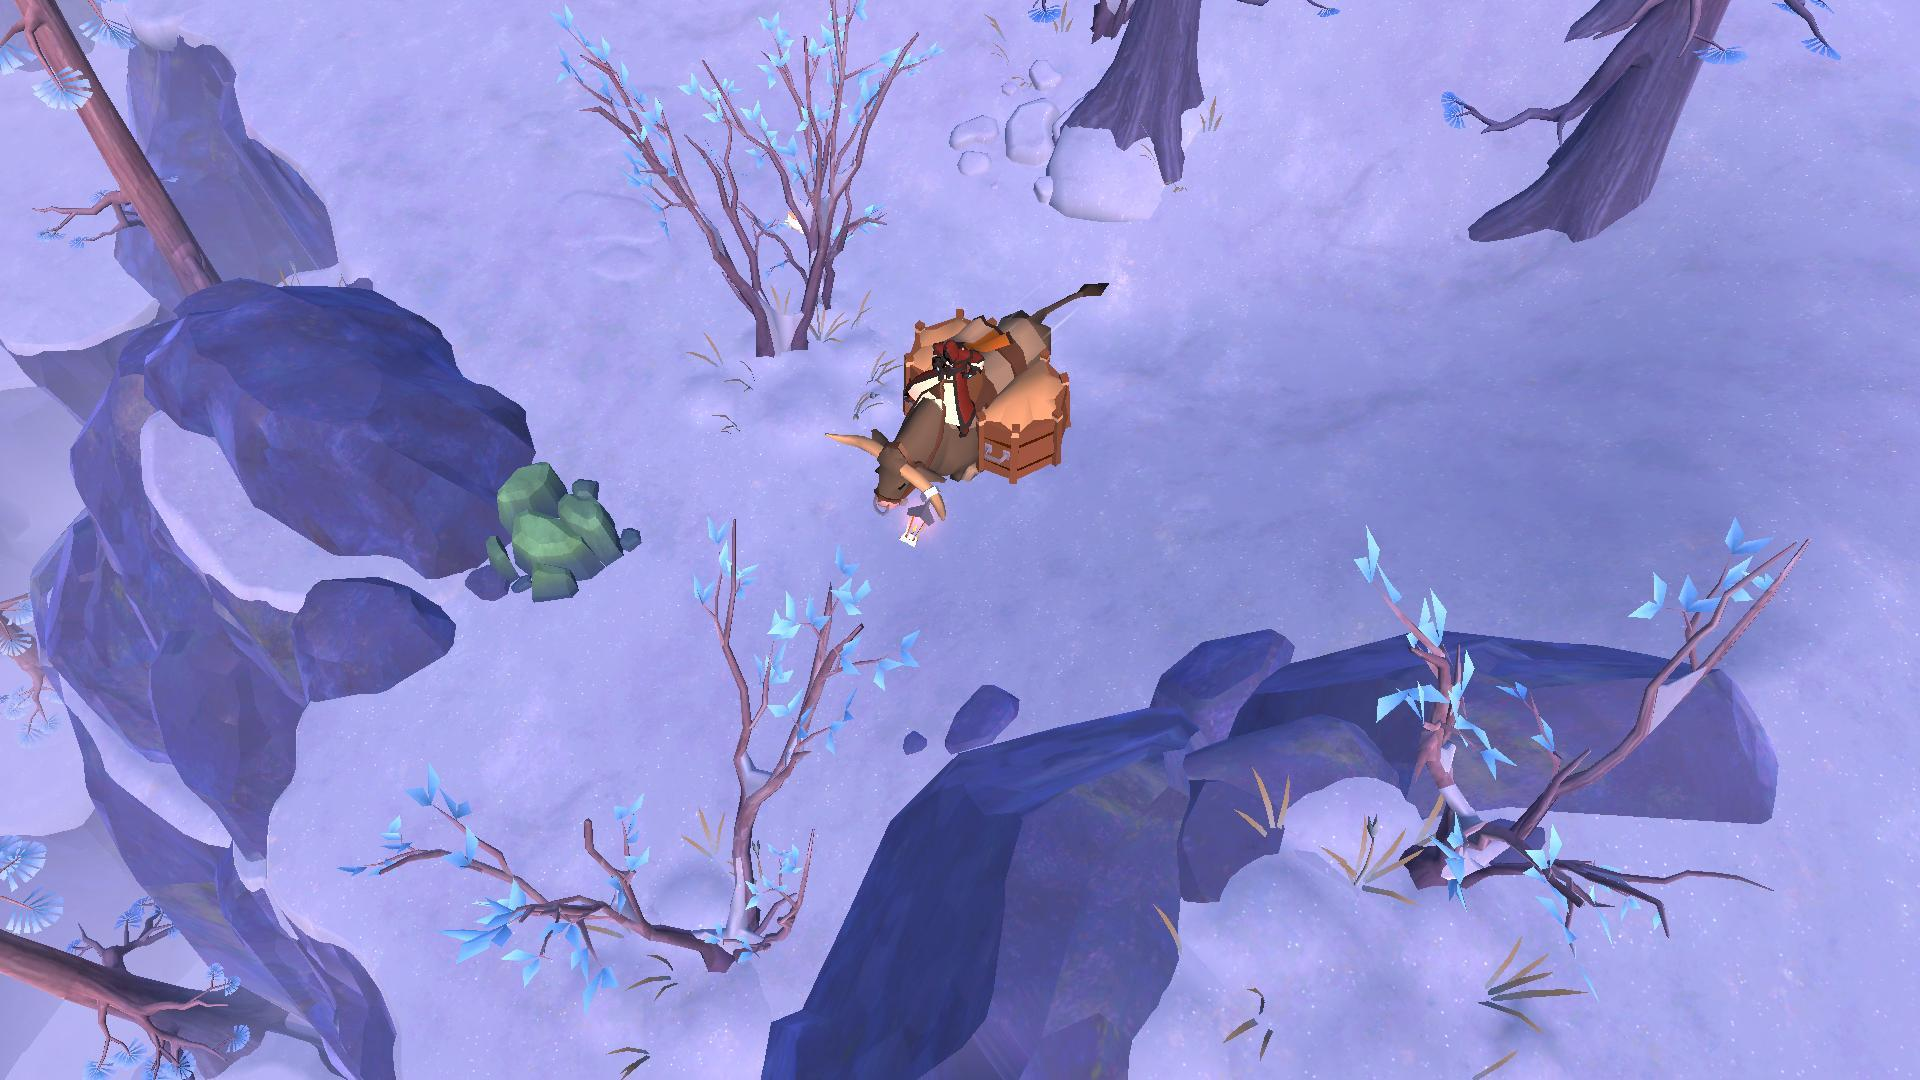rock_t3: (480, 450, 642, 603)
